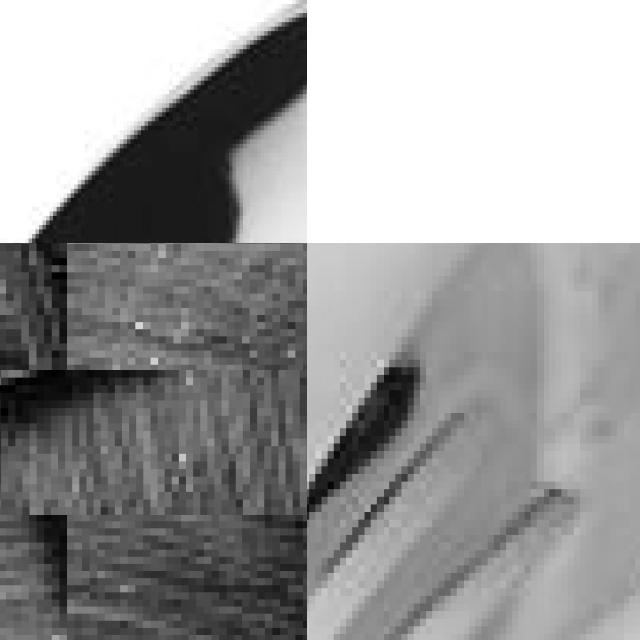forks: (307, 243, 640, 640), (0, 246, 191, 639)
spoons: (0, 0, 307, 243)
